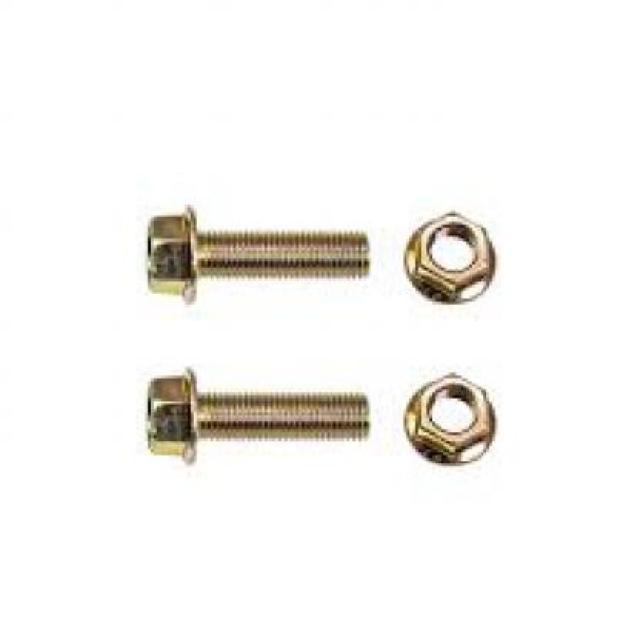METAL: (148, 205, 368, 302), (145, 367, 367, 461), (402, 205, 492, 302), (403, 370, 492, 461)
